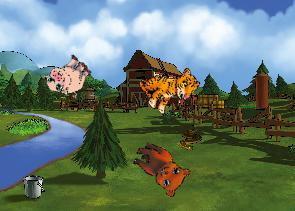bear: (124, 138, 194, 200)
pig: (40, 48, 96, 104)
tiger: (133, 52, 203, 121)
